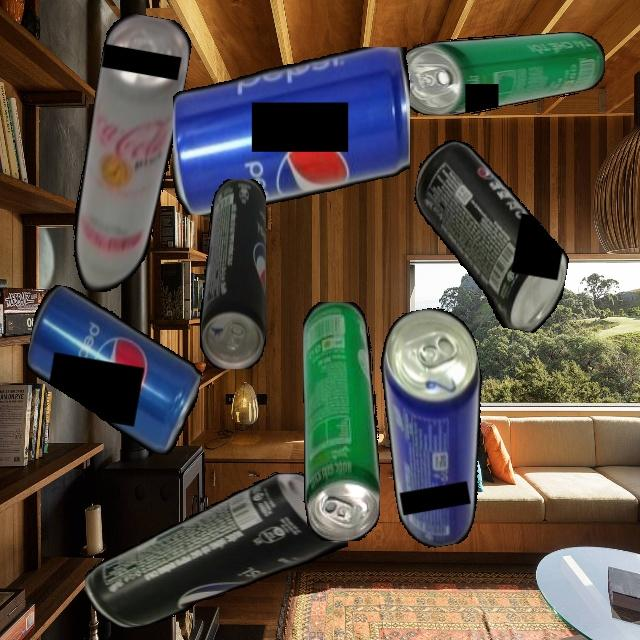debris: (85, 471, 348, 629), (172, 46, 410, 215), (62, 10, 195, 300), (395, 136, 585, 336), (365, 302, 509, 552), (15, 283, 212, 458), (302, 301, 380, 541), (396, 31, 605, 115), (199, 178, 266, 369)
